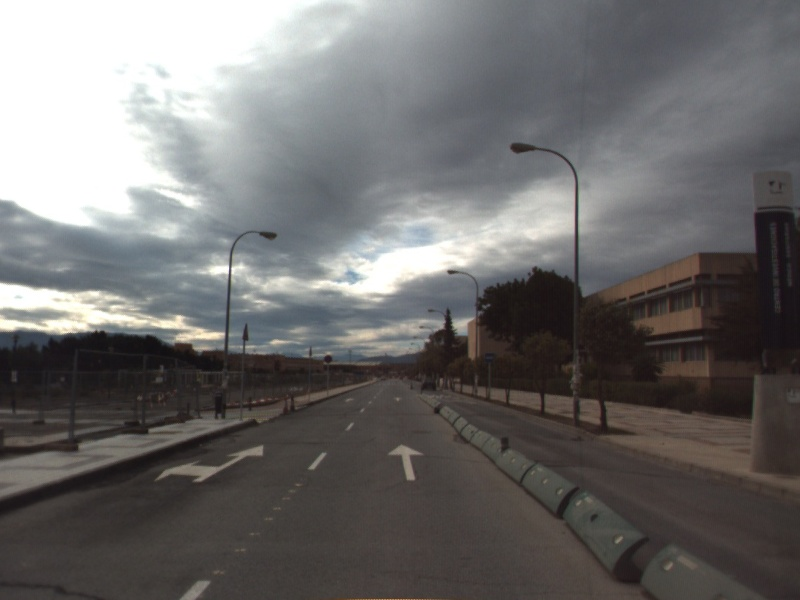STRAIGHT: (386, 441, 427, 483)
STRAIGHT_LEFT: (152, 443, 265, 484)
